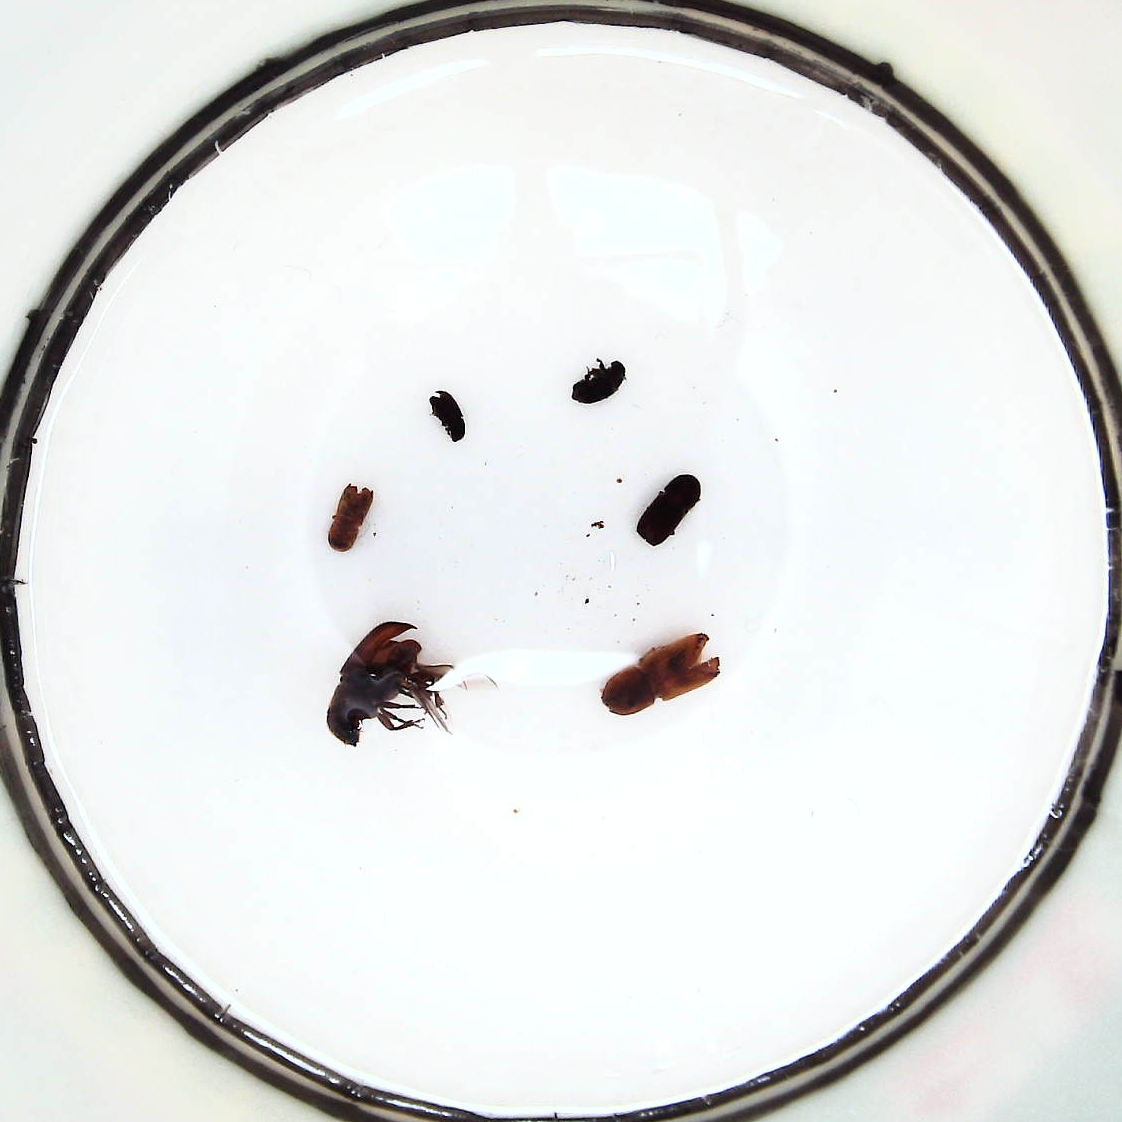Boerner: (601, 635, 719, 715)
Leconte: (325, 620, 454, 746)
acuminatus: (431, 390, 466, 443)
armandi: (327, 483, 373, 552)
coleoptera: (571, 360, 626, 404)
linnaeus: (636, 473, 699, 546)
